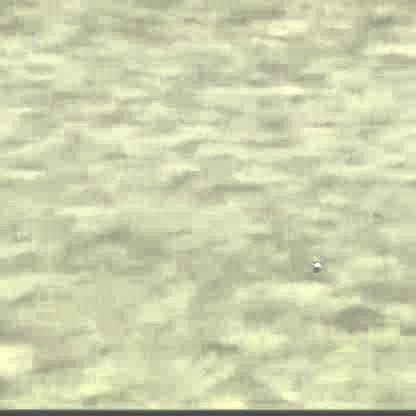golfball: (308, 261, 319, 271)
